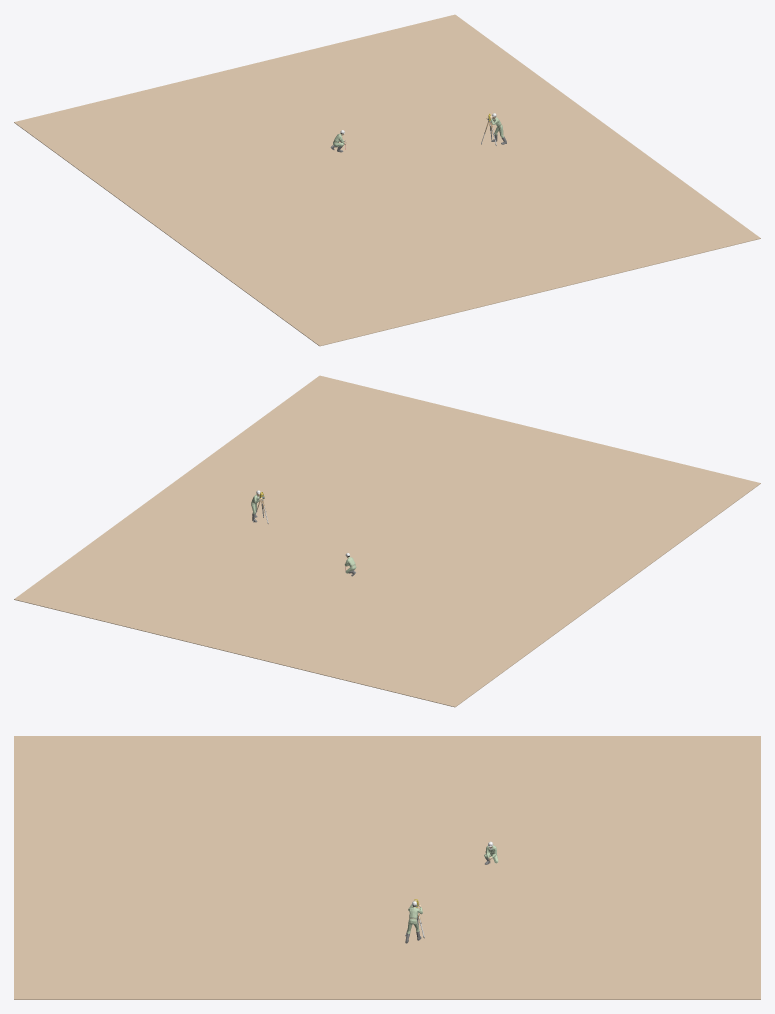
The model's file is asset.glb.
3 renders of one model, top to bottom at view 1: azimuth 30°, elevation 25°; view 2: azimuth 150°, elevation 25°; view 3: azimuth 270°, elevation 25°, orthographic. The views are drawn at different scales.
Parts seen in each view (by area): view 1: #00_Surface EG; view 2: #00_Surface EG; view 3: #00_Surface EG.
Boxes of the visible parts, x1,y1,x2,y2 form: #00_Surface EG: (14,14,760,346); #00_Surface EG: (14,375,760,707); #00_Surface EG: (14,736,760,999).
Size of the model in its own units: 25 by 2.63 by 30.
